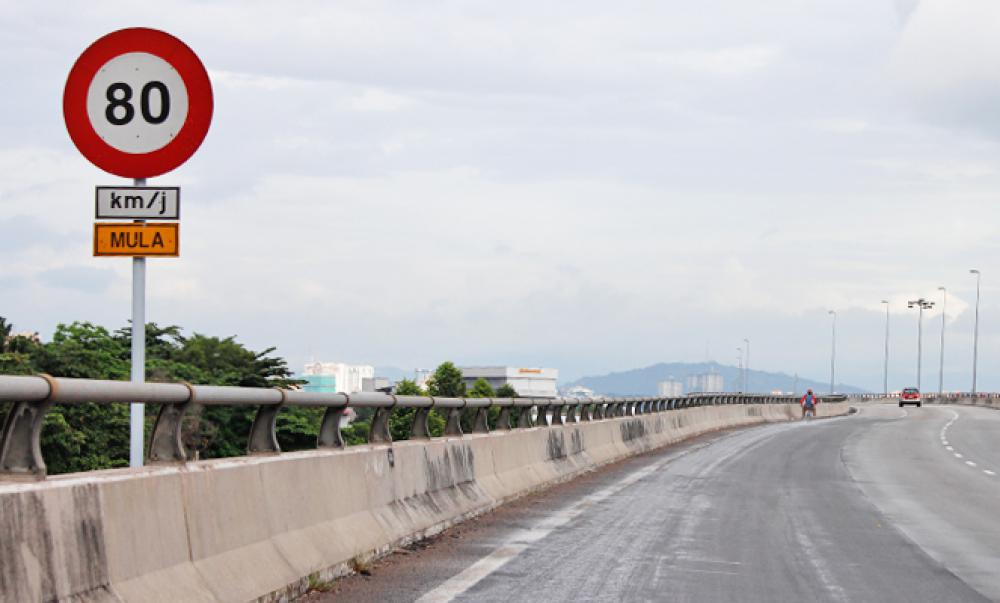Speed_limit_80km: (64, 28, 212, 176)
